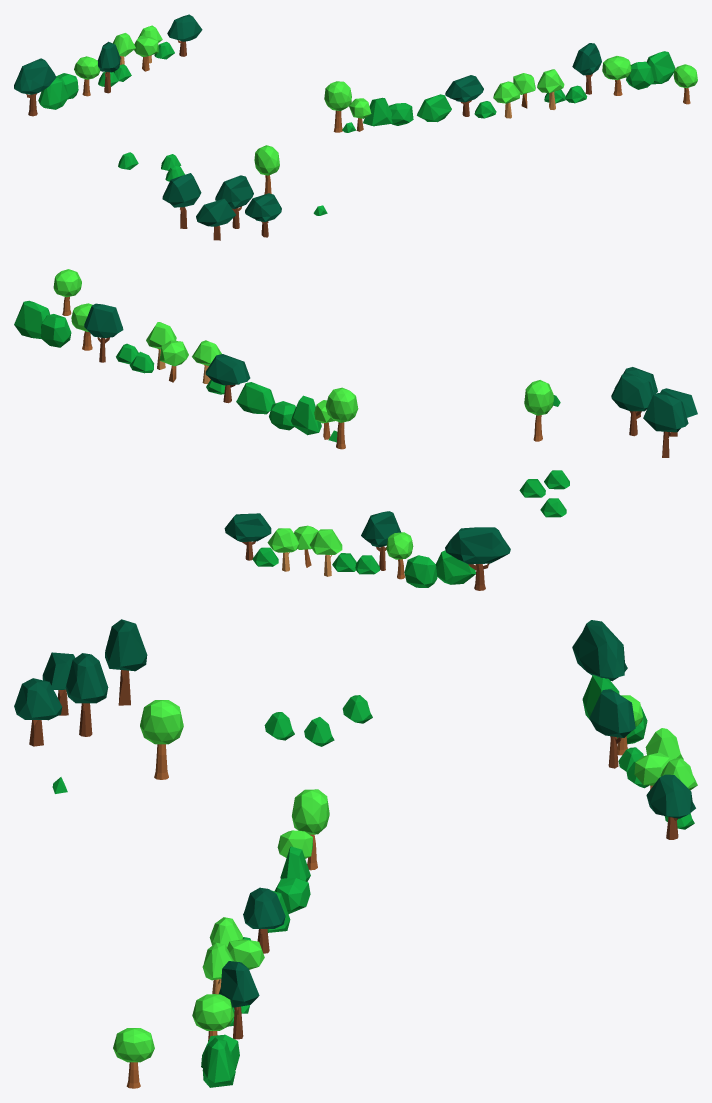
File: Level2WorldZone1.glb
The picture shows the model from 3 angles, top to bottom: view 1: azimuth 30°, elevation 25°; view 2: azimuth 150°, elevation 25°; view 3: azimuth 270°, elevation 25°; orthographic projection. The views are drawn at different scales.
Visible parts, largest first — view 1: barrier_group_3, barrier_group_1, barrier_group_7, barrier_group_2, barrier_group_4, Trunk_3.010, Trunk_3.009, barrier_group_3.001, Trunk_3.004, Trunk_3.008, barrier_group_5.001, Trunk_1.003 (+5 smaller); view 2: barrier_group_7, barrier_group_2, barrier_group_1, barrier_group_3, barrier_group_4, barrier_group_1.001, barrier_group_3.001, Trunk_3.010, Trunk_3.009, barrier_group_5.001, barrier_group_6.001, Trunk_1.003 (+3 smaller); view 3: barrier_group_1, barrier_group_2, barrier_group_7, barrier_group_3, Trunk_3.010, Trunk_3.009, Trunk_1.003, barrier_group_6.001, Trunk_3.008, barrier_group_4, barrier_group_5.001, tree (+5 smaller).
Part boxes in pixels (x1,y1,x2,y2): barrier_group_3: (417, 75, 519, 122); barrier_group_1: (324, 81, 413, 132); barrier_group_7: (14, 58, 78, 116); barrier_group_2: (572, 43, 675, 94); barrier_group_4: (513, 69, 587, 109); Trunk_3.010: (162, 173, 201, 228); Trunk_3.009: (215, 175, 253, 228); barrier_group_3.001: (74, 56, 131, 96); Trunk_3.004: (196, 198, 235, 240); Trunk_3.008: (245, 193, 281, 237); barrier_group_5.001: (167, 14, 202, 56); Trunk_1.003: (254, 145, 279, 194); barrier_group_7: (404, 527, 510, 590); barrier_group_2: (14, 300, 123, 362); barrier_group_1: (269, 387, 358, 449); barrier_group_3: (192, 340, 275, 414); barrier_group_4: (116, 322, 188, 382); barrier_group_1.001: (267, 528, 342, 576); barrier_group_3.001: (332, 532, 413, 579); Trunk_3.010: (643, 393, 688, 457); Trunk_3.009: (611, 373, 653, 436); barrier_group_5.001: (224, 513, 271, 560); barrier_group_6.001: (361, 511, 401, 570); Trunk_1.003: (524, 380, 554, 441); barrier_group_1: (274, 789, 329, 914); barrier_group_2: (201, 961, 259, 1087); barrier_group_7: (572, 620, 647, 744); barrier_group_3: (209, 887, 290, 953); Trunk_3.010: (105, 619, 147, 705); Trunk_3.009: (65, 653, 108, 736); Trunk_1.003: (140, 700, 183, 779); barrier_group_6.001: (589, 689, 635, 768); Trunk_3.008: (14, 678, 62, 746); barrier_group_4: (202, 939, 264, 1026); barrier_group_5.001: (646, 774, 695, 839); tree: (113, 1028, 154, 1088).
Size of the model in its own units: 77.18 by 7.47 by 54.73.
1 material, 1 textured.
